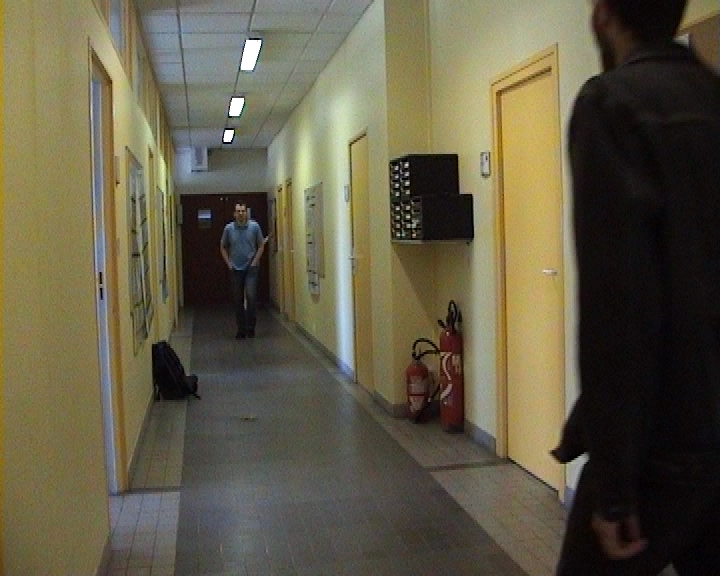leave bag unattended: (135, 319, 212, 420)
